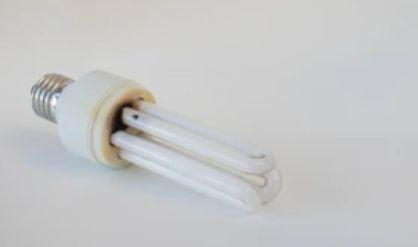light bulb: (26, 66, 286, 216)
